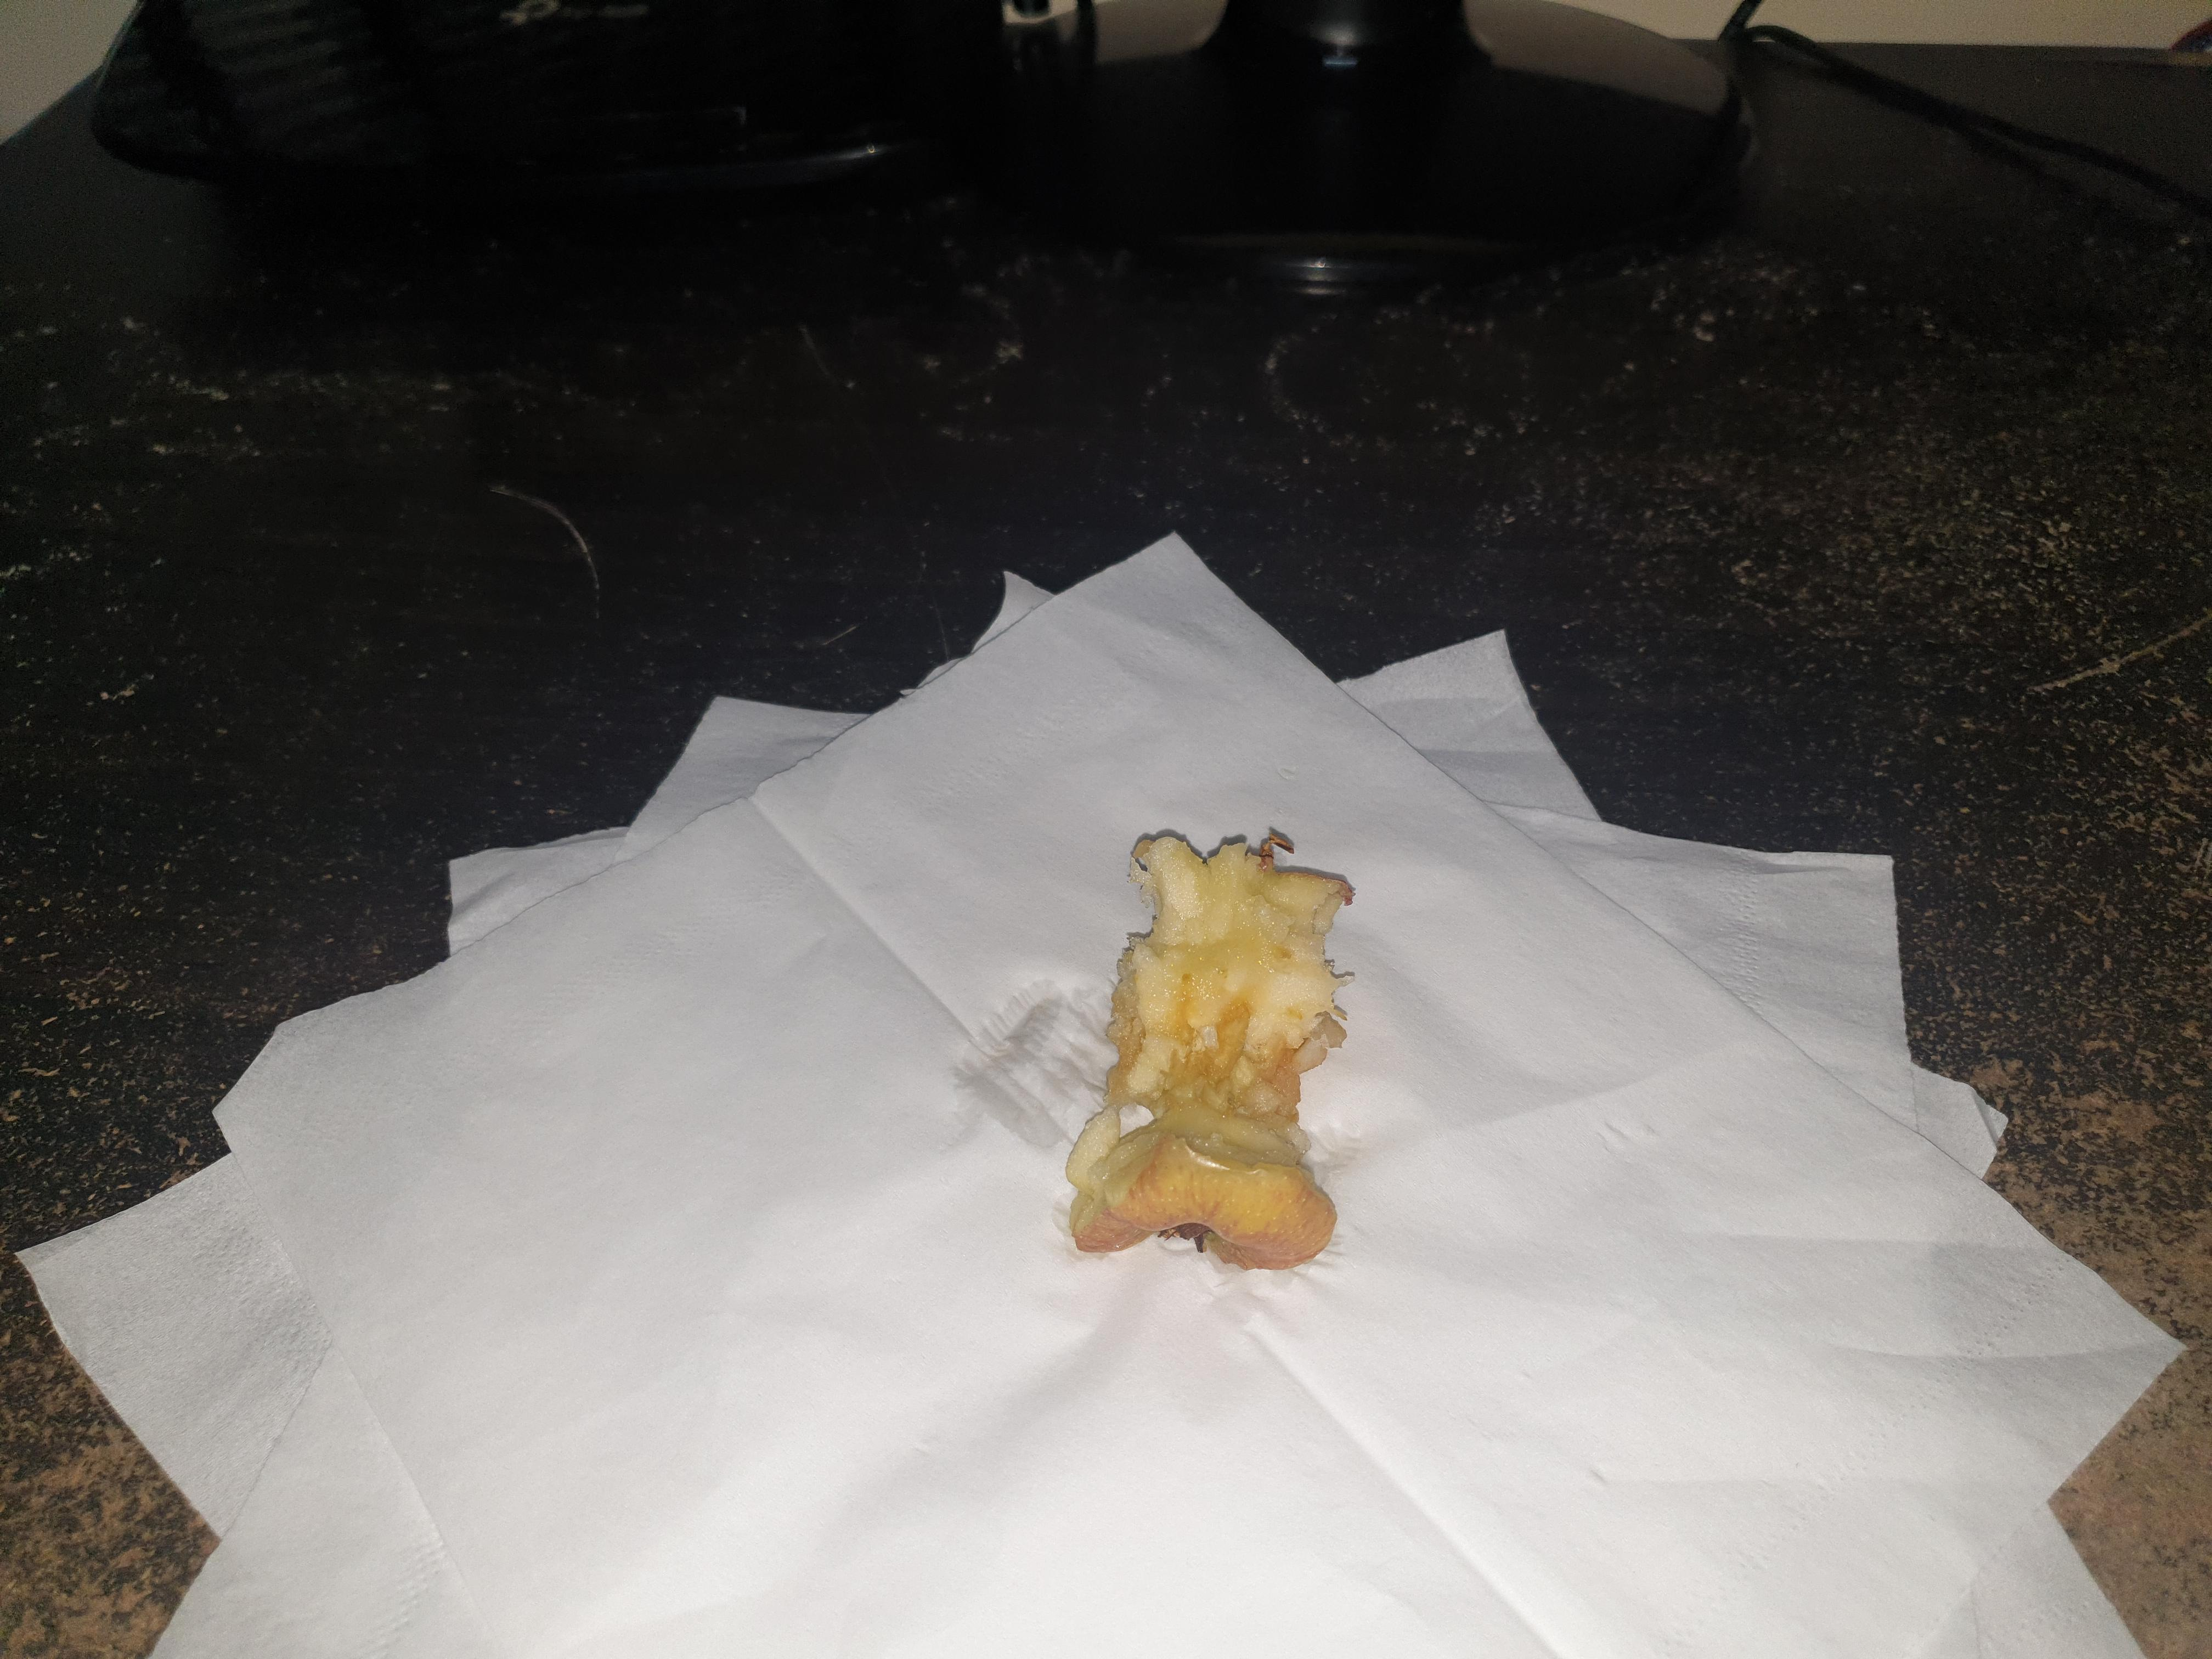Apple: (1000, 793, 1416, 1286)
